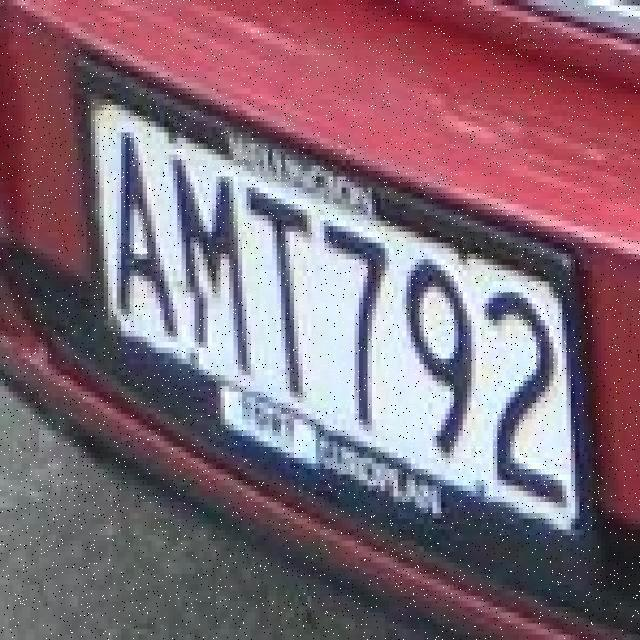License Plate: (70, 38, 614, 566)
